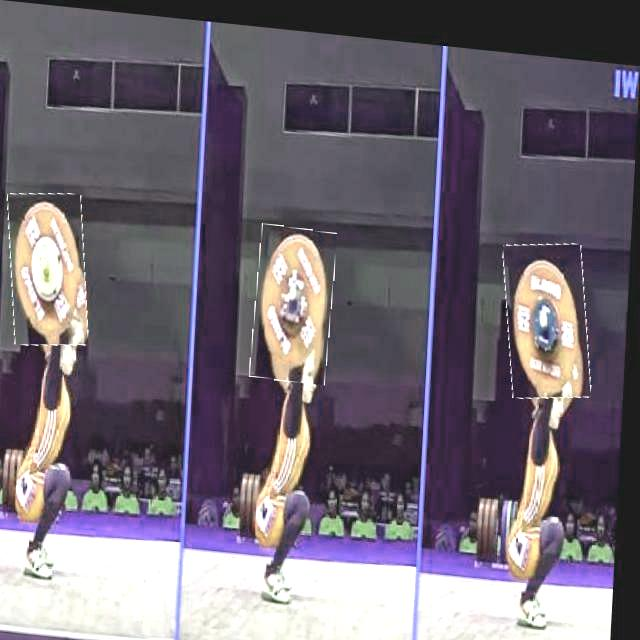barbell: (505, 227, 597, 390), (8, 188, 95, 349), (255, 218, 339, 379)
